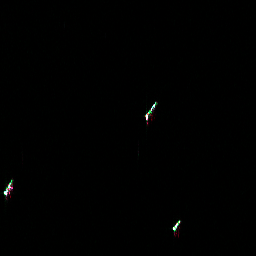ship: (142, 98, 159, 120), (2, 177, 15, 198), (170, 217, 183, 233)
